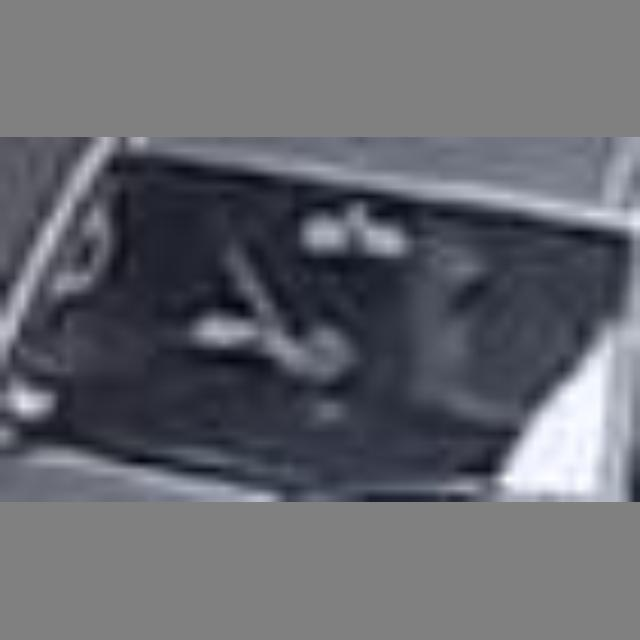pakai: (165, 174, 421, 439)
